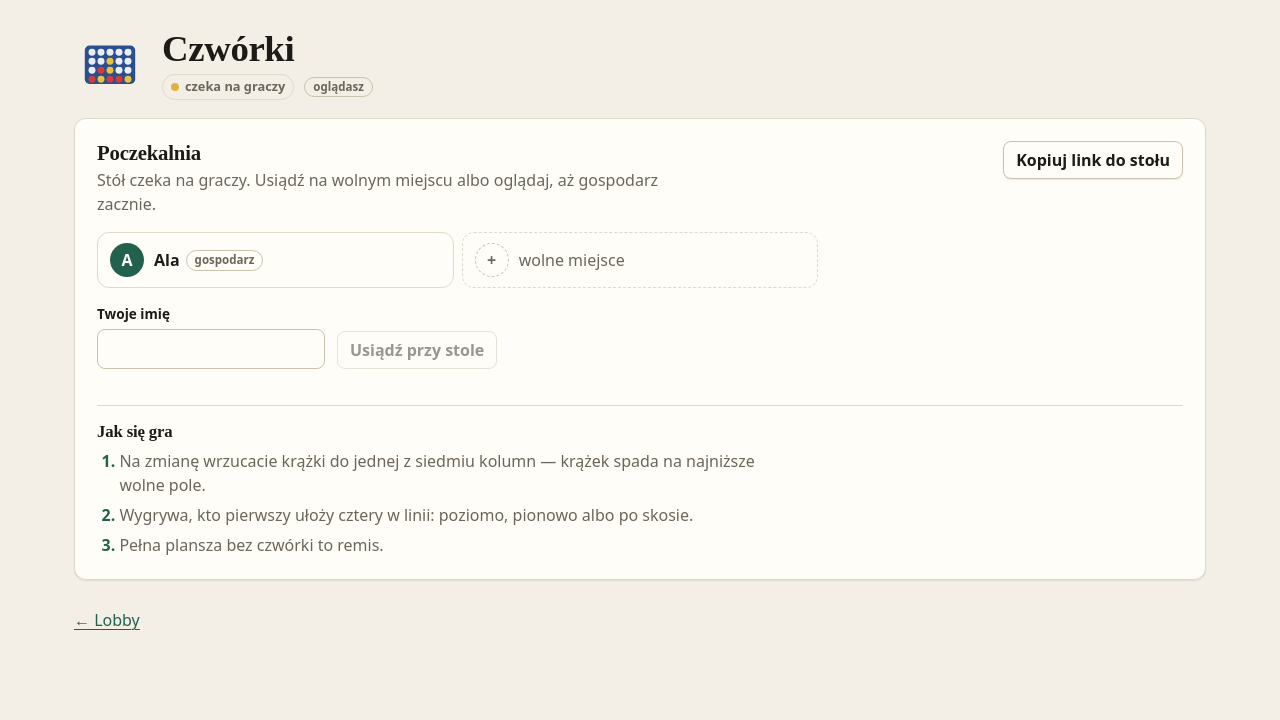
Test: sitting down when watching fails too › keeps the join error and shows no connection instead of endless connecting
Type "Ola" into the field labelled "Twoje imię".
click(211, 349); type("Ola")  # box [97, 329, 325, 369]
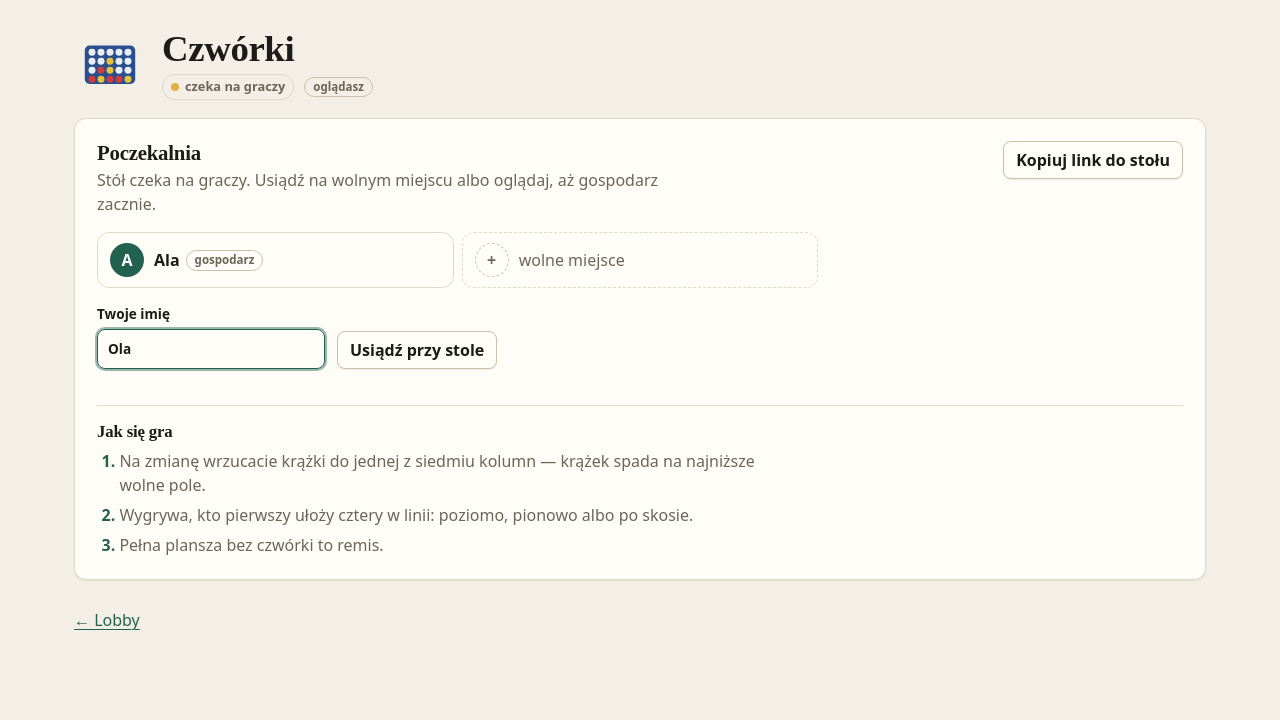
Click the button "Usiądź przy stole".
click(417, 350)  # box [337, 331, 497, 369]
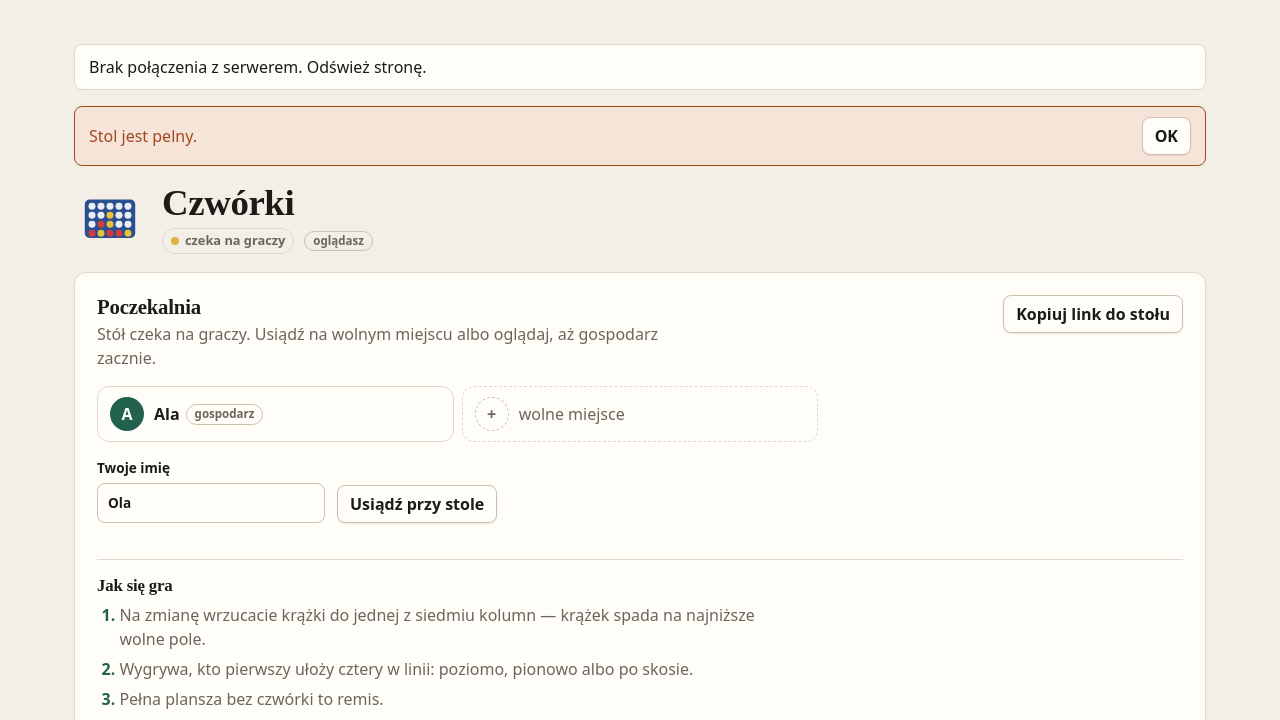
Expected: the text "Brak połączenia z serwerem. Odśwież stronę." is shown, [74, 44, 1206, 90]
Expected: the message shows "Stol jest pelny.", [89, 125, 197, 147]
